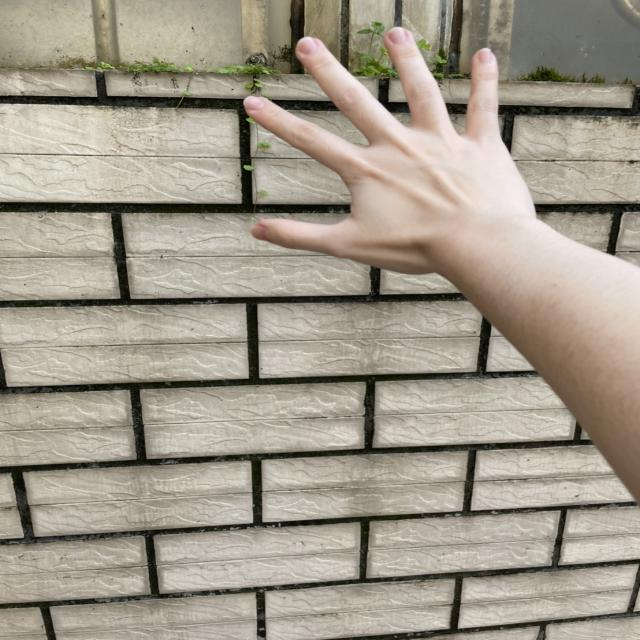hand: (241, 24, 535, 276)
